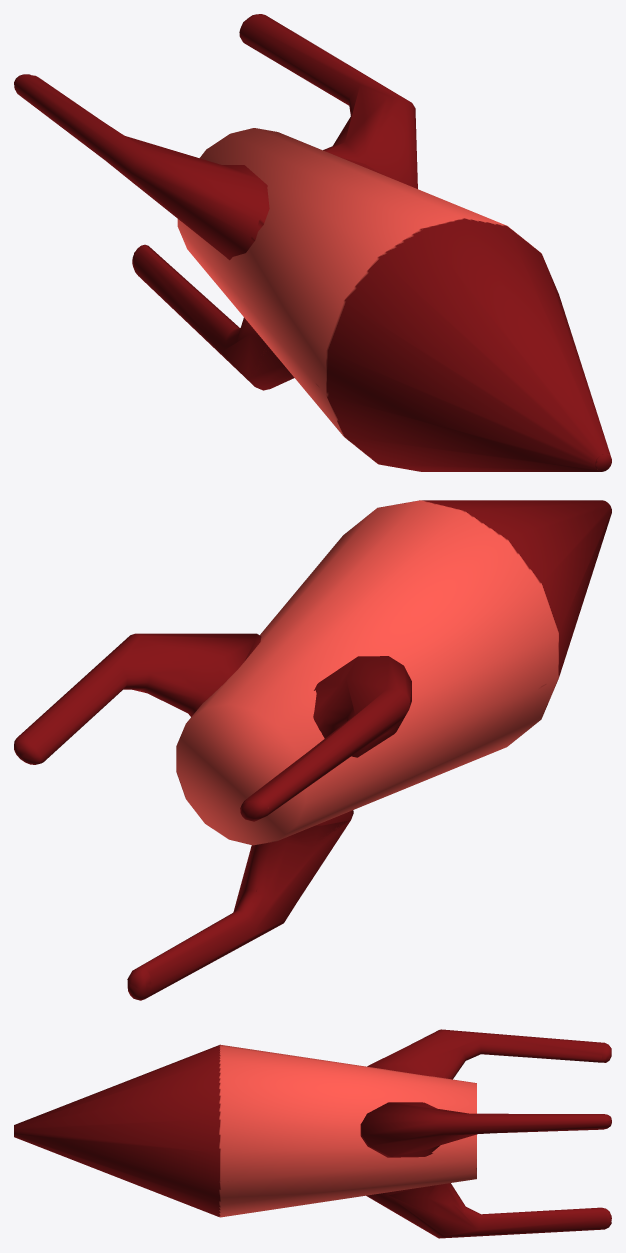
File: nerf.obj
3 renders of one model, top to bottom at view 1: azimuth 30°, elevation 25°; view 2: azimuth 150°, elevation 25°; view 3: azimuth 270°, elevation 25°, orthographic. The views are drawn at different scales.
Parts seen in each view (by area): view 1: Details; view 2: Details; view 3: Details.
Boxes of the visible parts, box(x1,y1,x2,y2) form: Details: box(14, 14, 611, 471); Details: box(14, 500, 611, 1000); Details: box(14, 1029, 611, 1238).
Bounding box in the file's own units: 2.4 × 2.35 × 6.87.
Materials: 1 (1 with a texture image).
